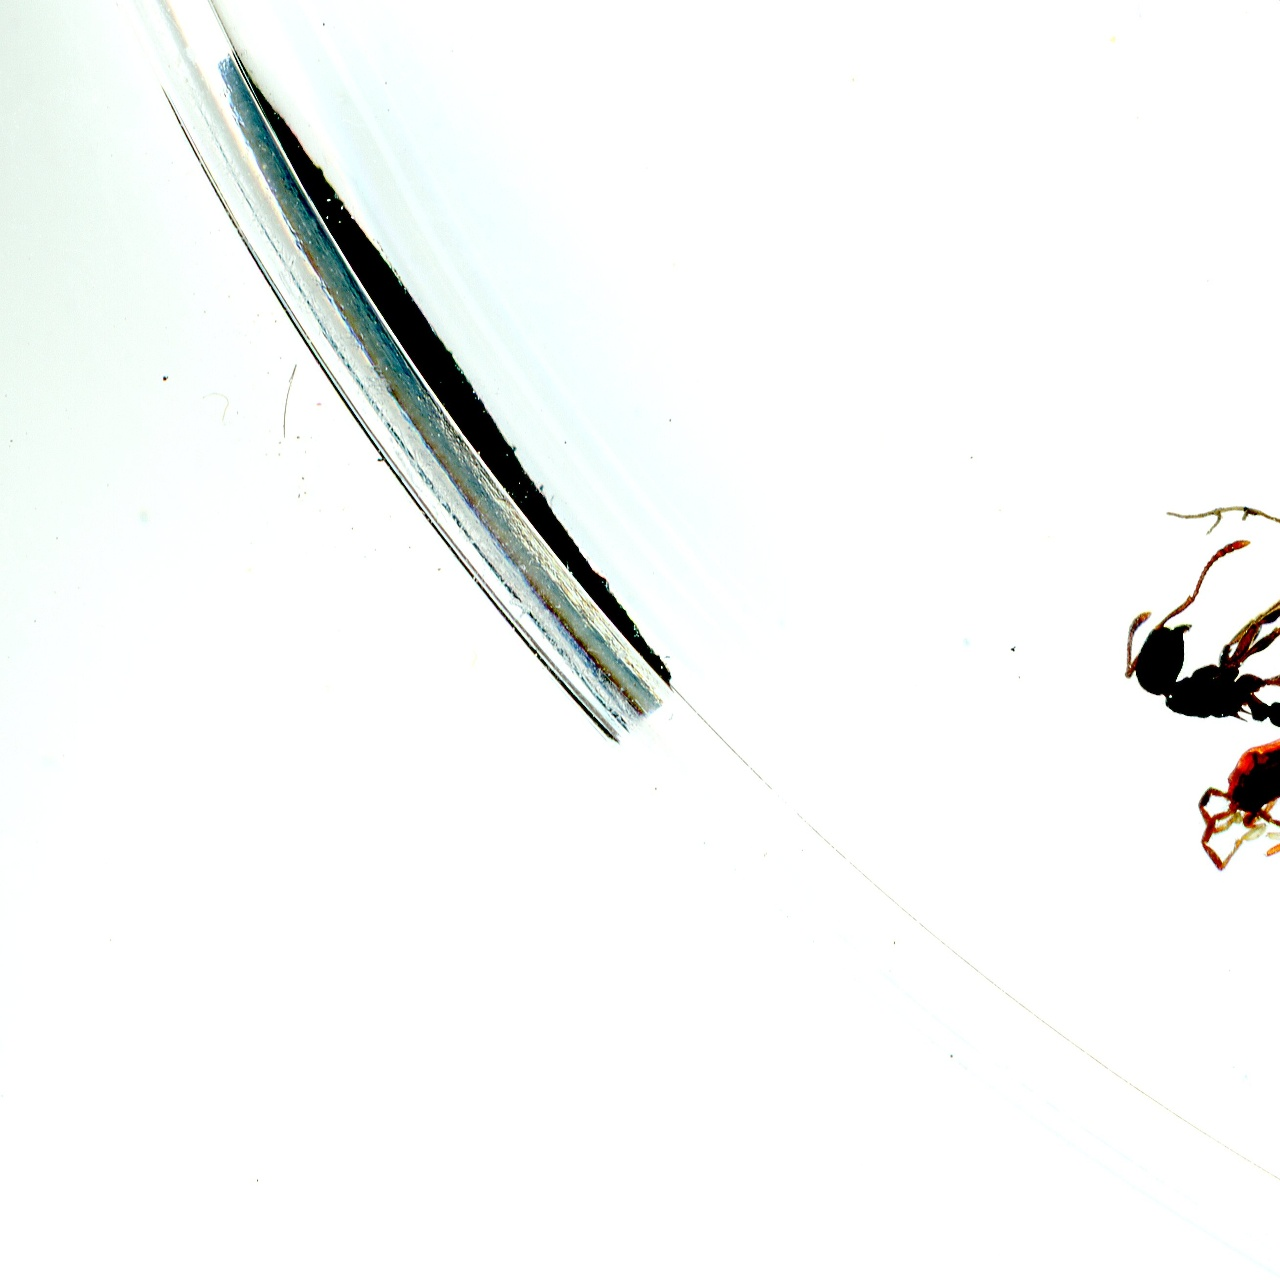arthropod: (1114, 520, 1280, 742), (1171, 689, 1280, 886)
